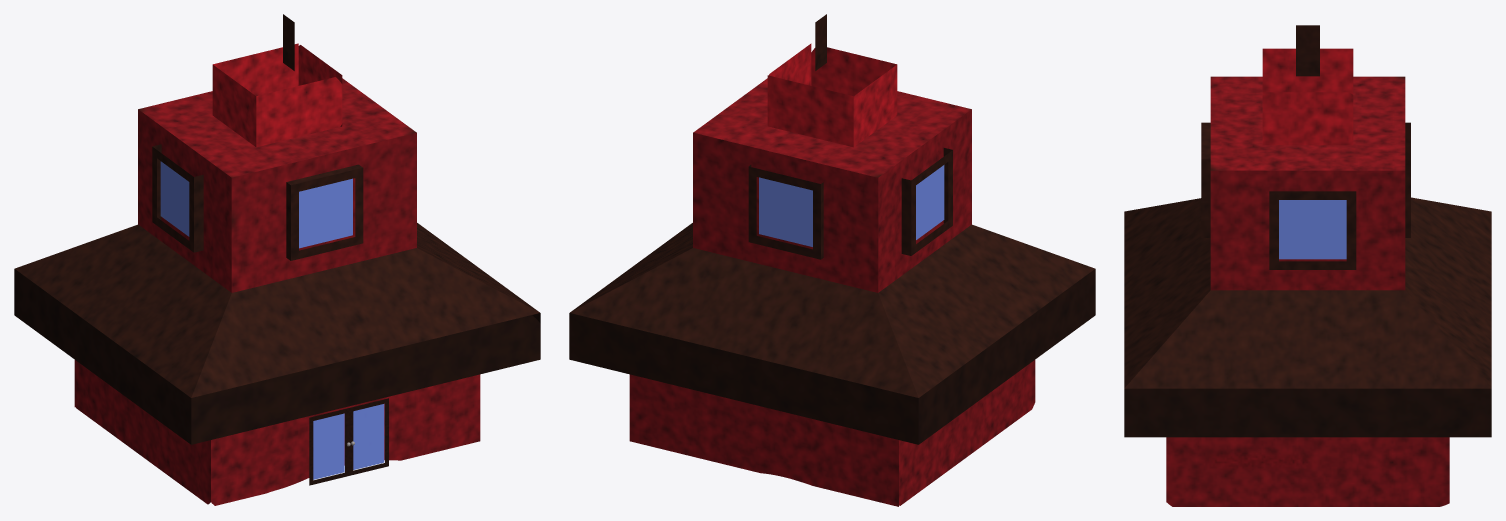
Rendered from House1.fbx.
The picture shows the model from 3 angles, left to right: view 1: azimuth 30°, elevation 25°; view 2: azimuth 150°, elevation 25°; view 3: azimuth 270°, elevation 25°; orthographic projection. The views are drawn at different scales.
Visible parts, largest first — view 1: House1; view 2: House1; view 3: House1.
Boxes of the visible parts, x1,y1,x2,y2 form: House1: (14, 14, 540, 505); House1: (569, 14, 1095, 506); House1: (1124, 25, 1491, 506).
Size of the model in its own units: 653 by 721 by 573.
Materials: 1 (1 with a texture image).
